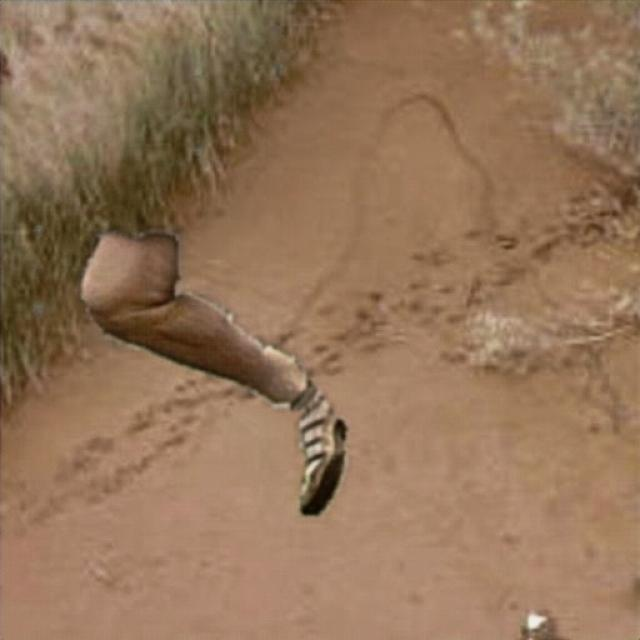Person in Rubble: (81, 231, 346, 514)
